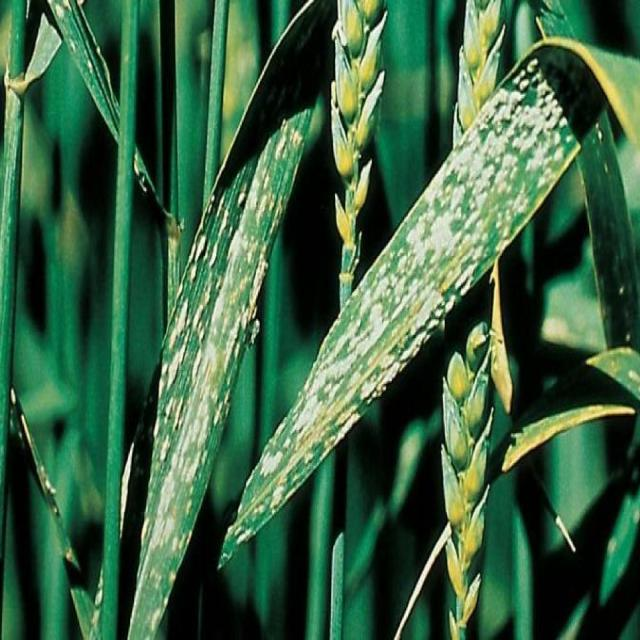Powdery Mildew: (239, 52, 597, 512), (121, 59, 321, 572)
